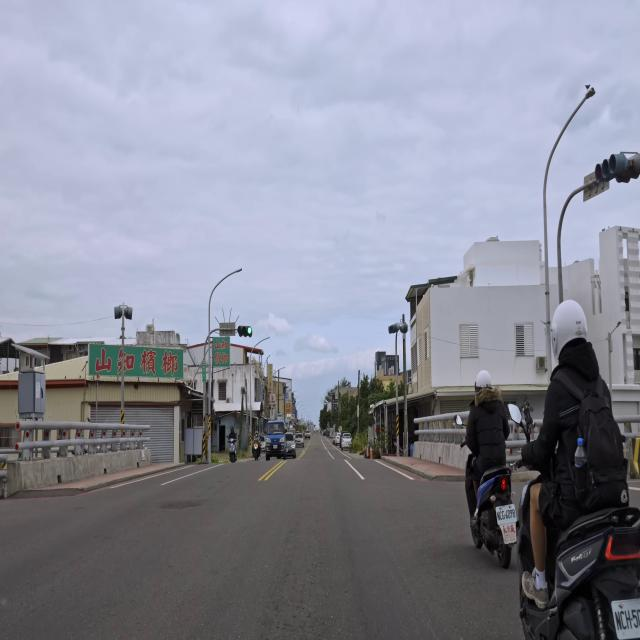green light: (238, 325, 252, 337)
